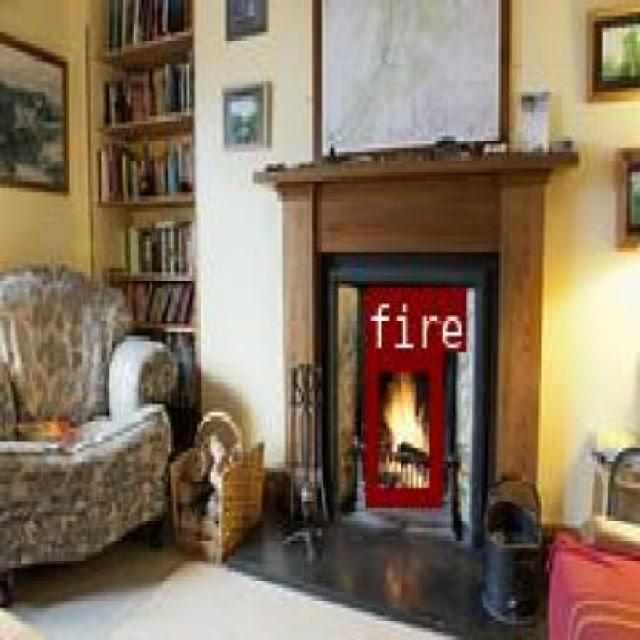fire: (364, 352, 439, 502)
